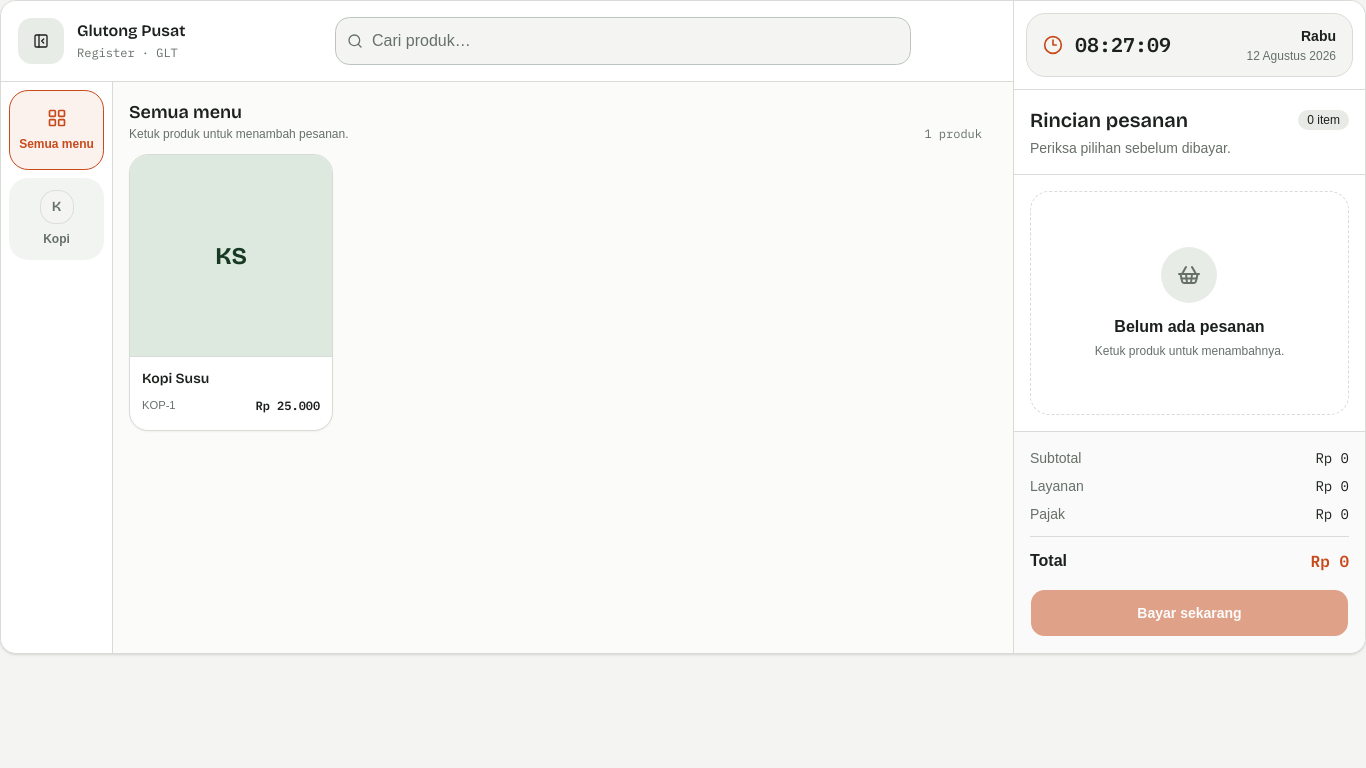
Test: POS register layout › hides and restores the desktop category rail
Expected: the element named "Kategori menu" is shown, x1=1 y1=82 x2=113 y2=653
Click the button named "Sembunyikan kategori" at (41, 41), box x1=17 y1=17 x2=65 y2=65
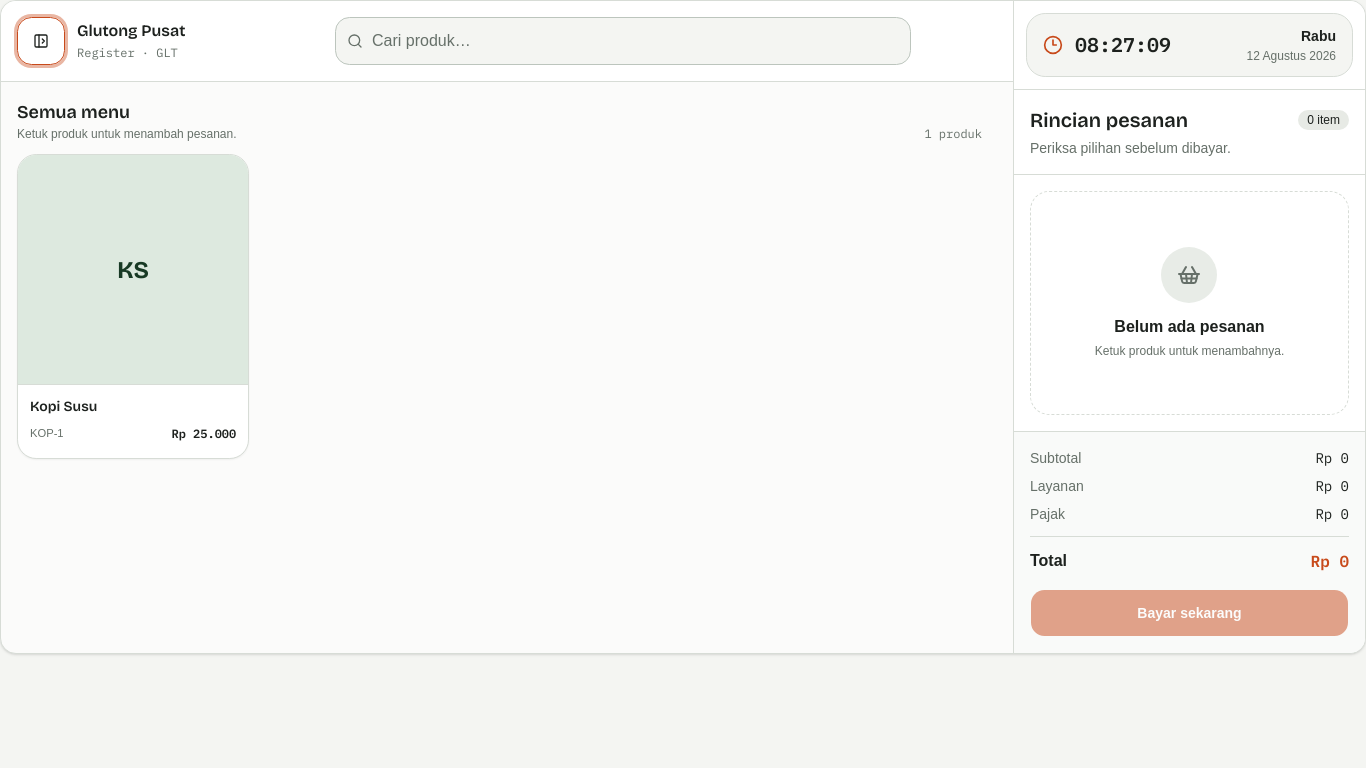
Click the button named "Tampilkan kategori" at (41, 41), box x1=17 y1=17 x2=65 y2=65
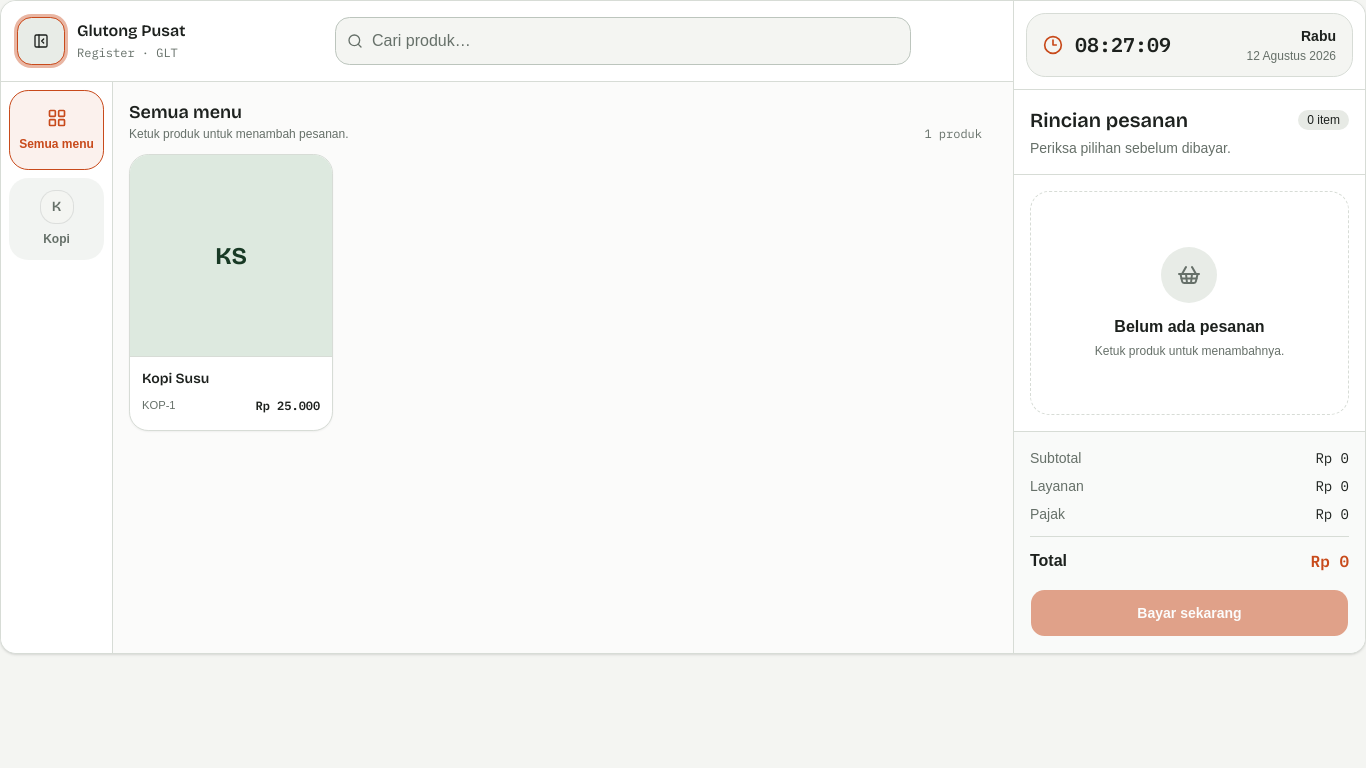
Expected: the element named "Kategori menu" is shown, x1=1 y1=82 x2=113 y2=653
